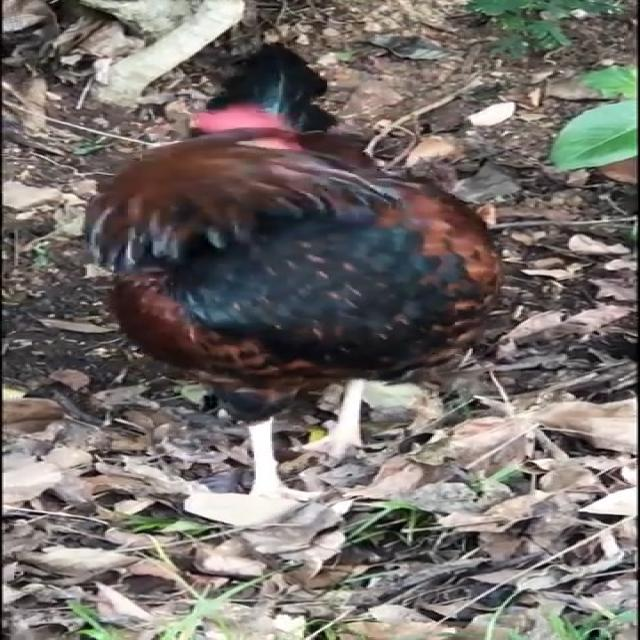self preening: (89, 32, 515, 532)
